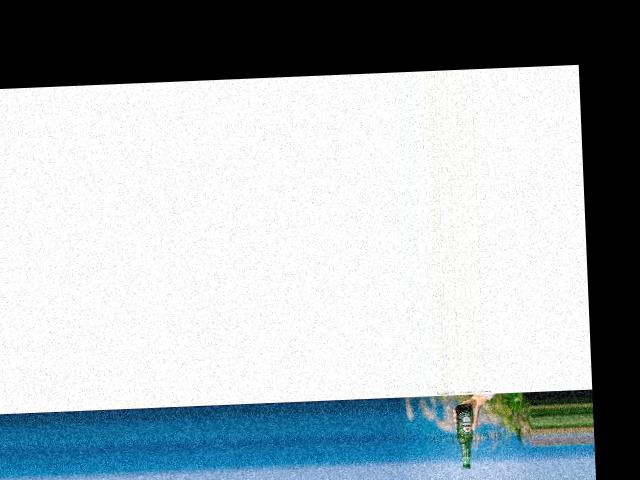beer: (455, 404, 475, 469)
